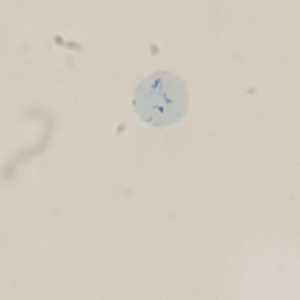aggregate reticulocyte: (130, 69, 191, 129)
